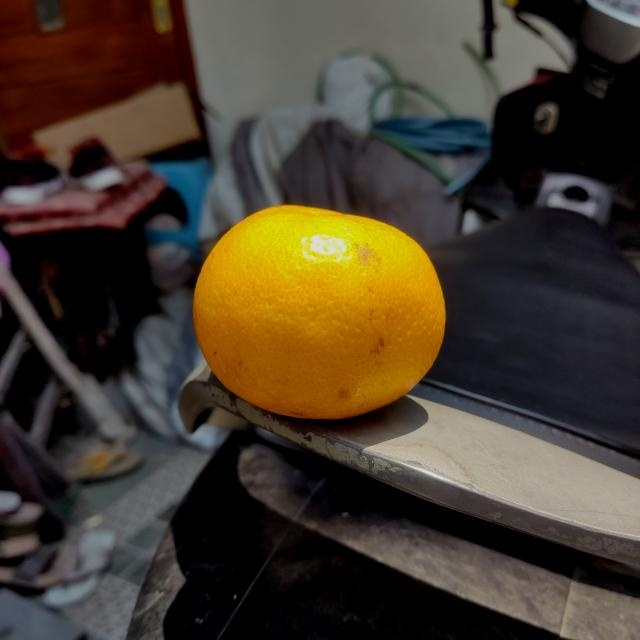agrume: (190, 204, 450, 419)
